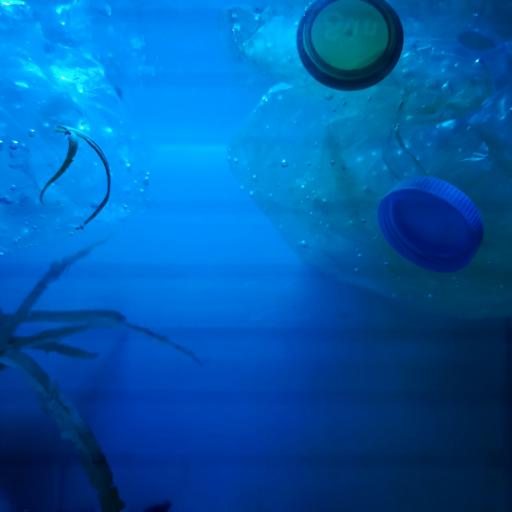bottle_cap: (378, 174, 484, 274), (296, 0, 402, 89)
plastic_bag: (224, 0, 512, 319), (0, 0, 152, 257)
